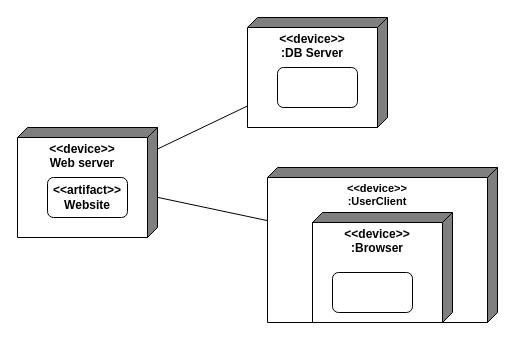
Image size: 515x340. Some labels were removed from this diagram. The shapes that lost their labels are listed below. From the top down, each one's centre as x and y in pixels, then its label:
At [317,87]: "<<artifact>> SQLite DB".
At [372,292]: "<<artifact>> HTML 5".
